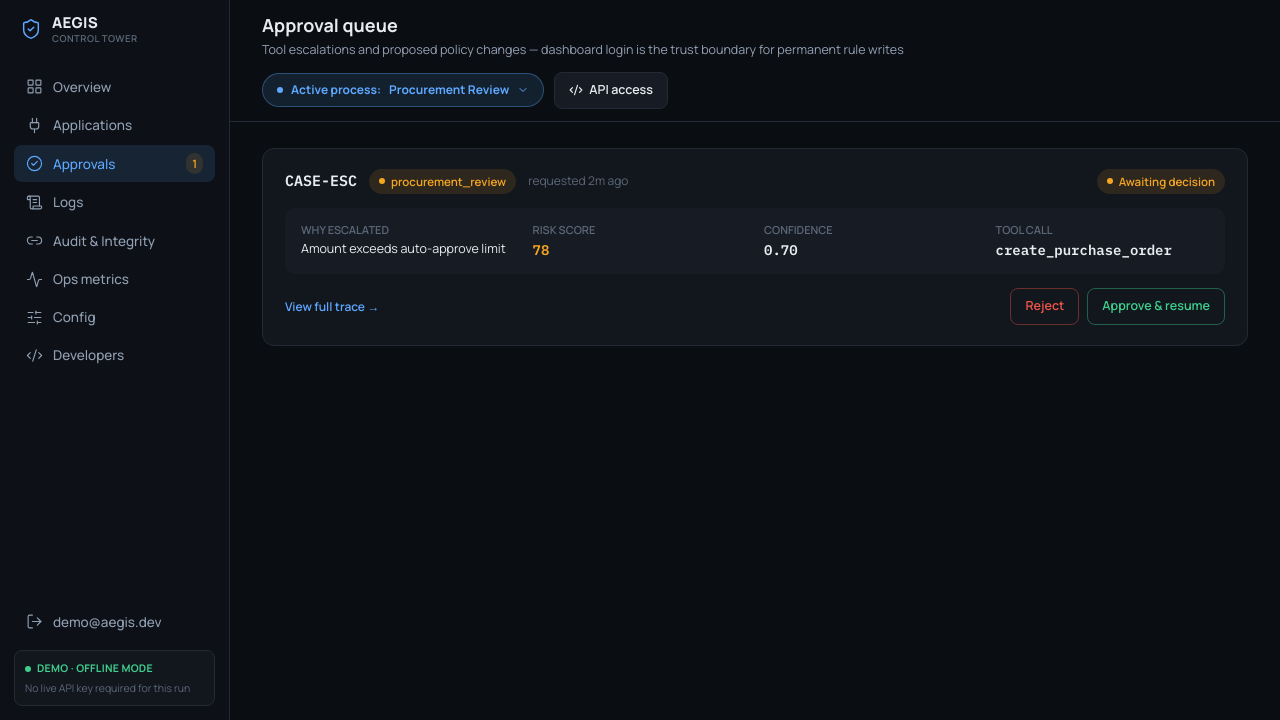
ApprovalsPage › toggles API access panel
Check: the text "Approval queue" is shown, box [262, 13, 398, 37]
Click the button "API access" at x=611, y=90, box [554, 72, 668, 109]
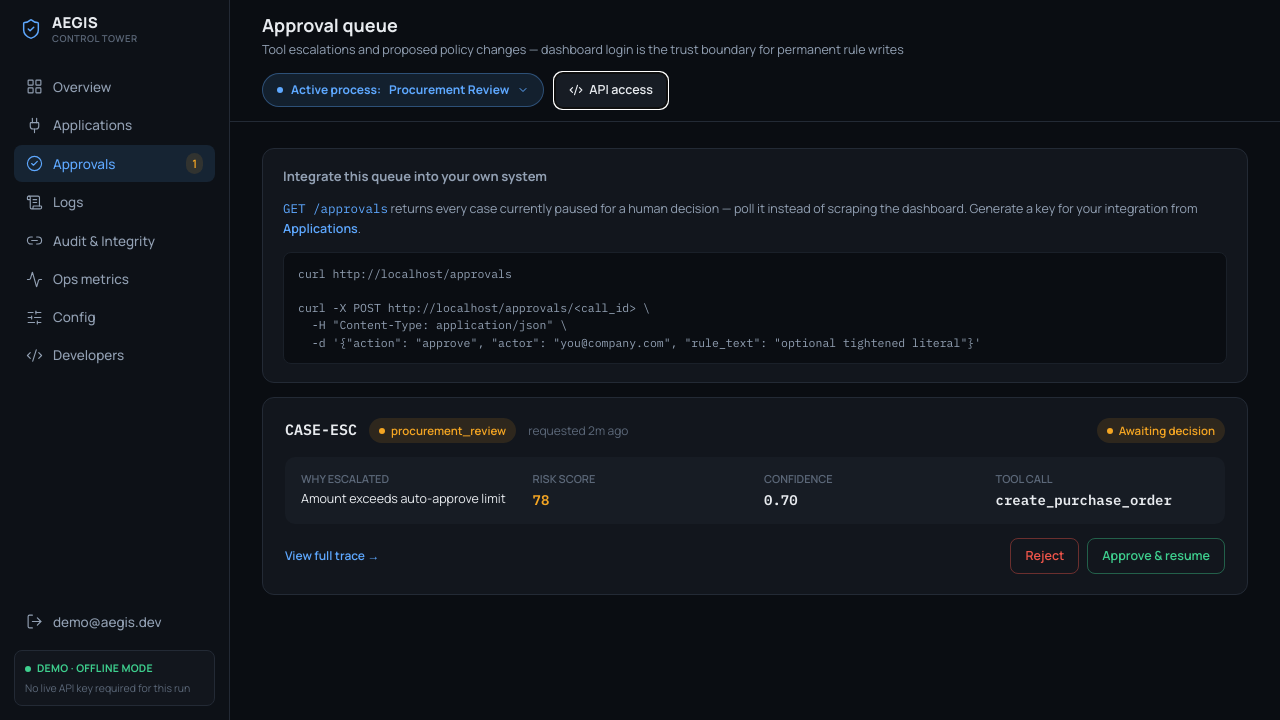
Check: the text "Integrate this queue into your own system" is shown, box [283, 166, 547, 184]
Check: the text "GET /approvals" is shown, box [283, 200, 388, 216]
